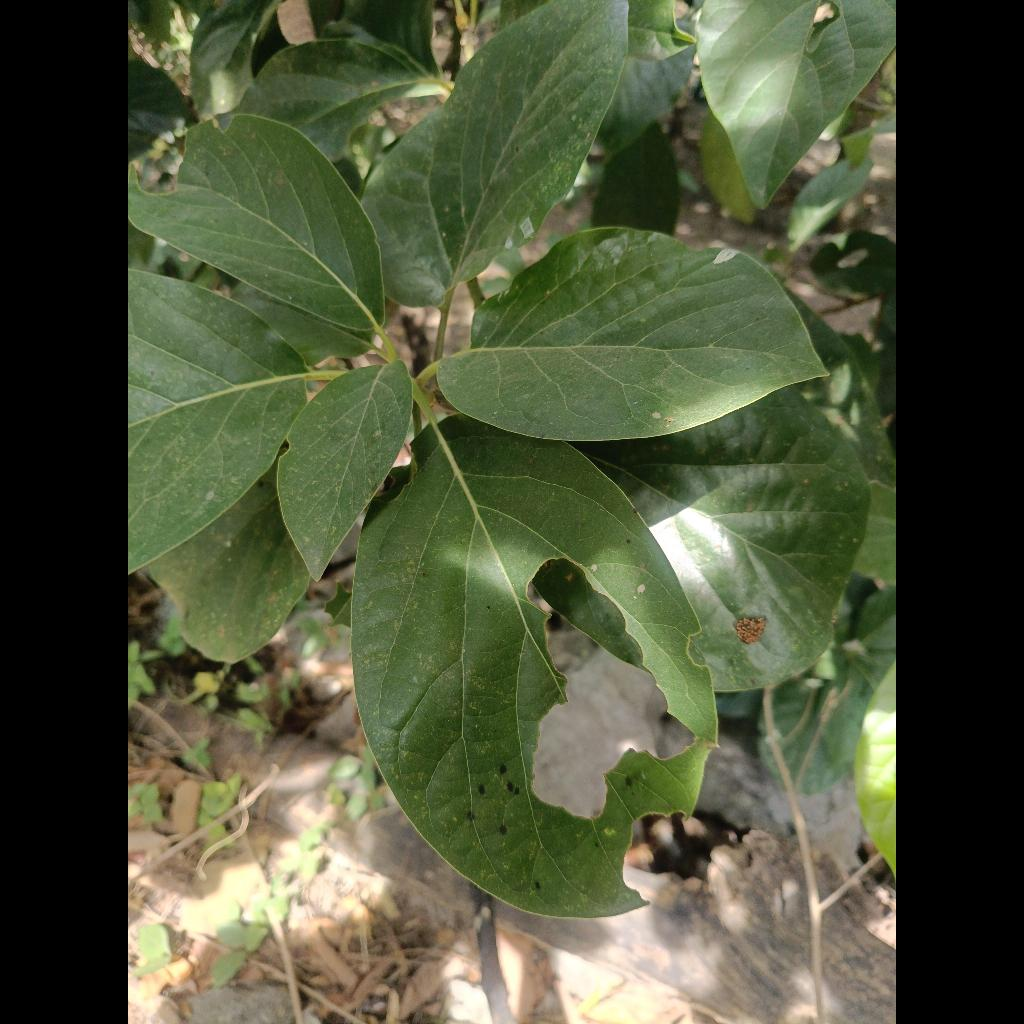plaga: (351, 415, 716, 918)
